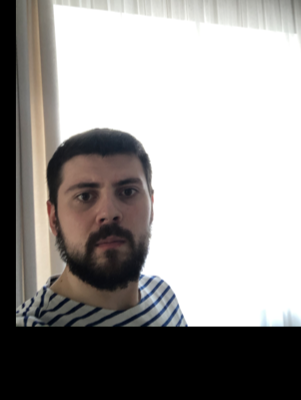without_mask: (55, 172, 150, 290)
